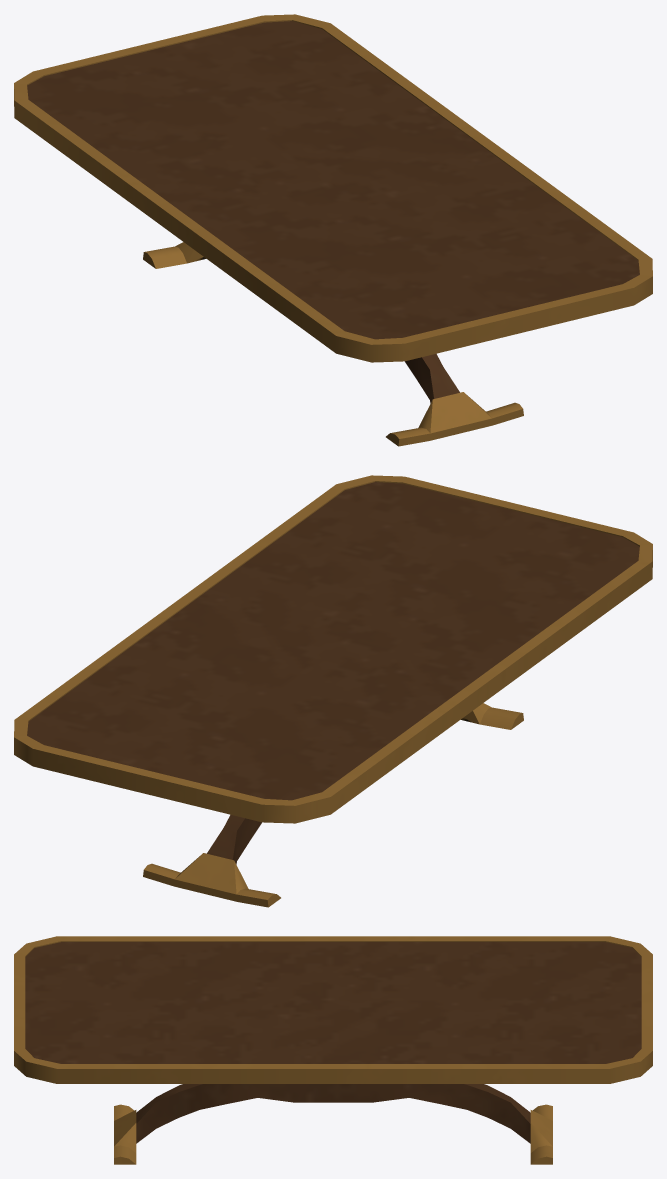
The model's file is IE_Table.fbx.
3 renders of one model, top to bottom at view 1: azimuth 30°, elevation 25°; view 2: azimuth 150°, elevation 25°; view 3: azimuth 270°, elevation 25°, orthographic. The views are drawn at different scales.
Parts seen in each view (by area): view 1: IE_Table; view 2: IE_Table; view 3: IE_Table.
Part boxes in pixels (bbox=[...]): IE_Table: bbox=[14, 14, 652, 446]; IE_Table: bbox=[14, 475, 652, 907]; IE_Table: bbox=[14, 936, 652, 1164].
Size of the model in its own units: 161 by 78.09 by 329.
1 material, 1 textured.
